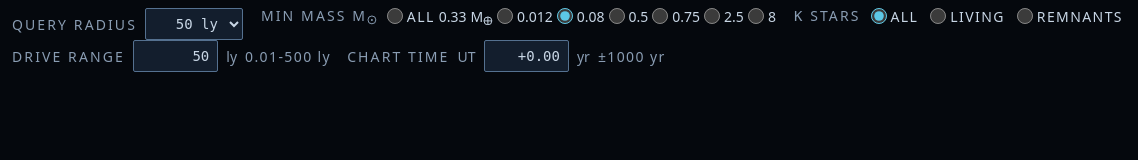
Scenario: ChartControls › enters nothing for a drive range emptied with Enter
Clear the field labelled "DRIVE RANGE" at (176, 56), box 133,40 -> 218,72
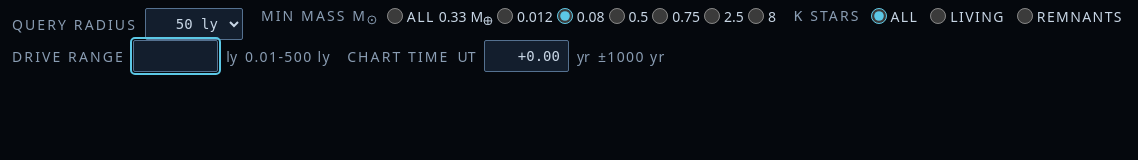
Press Enter
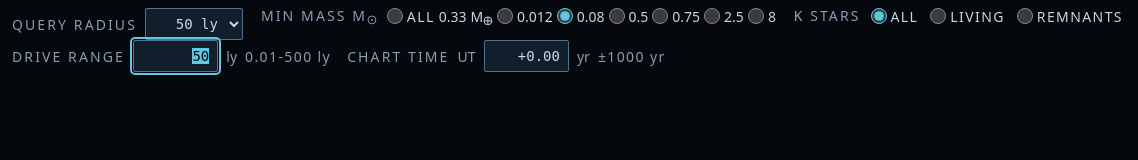
Expected: the field labelled "DRIVE RANGE" holds "50", 133,40 -> 218,72
